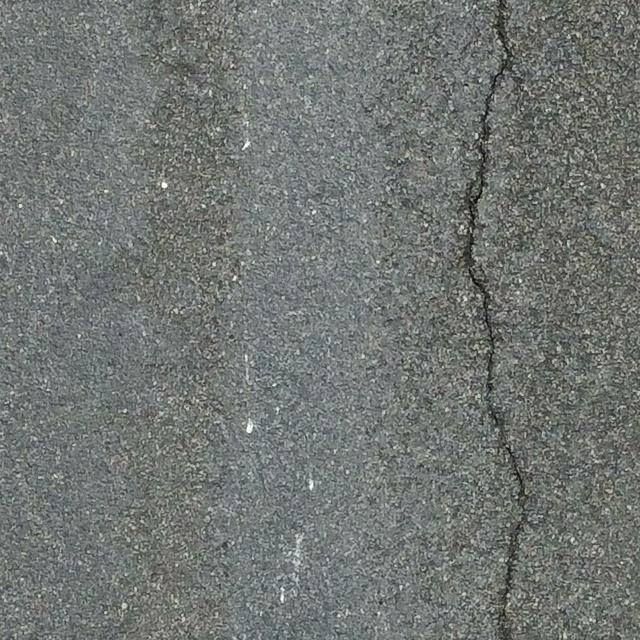LongitudinalCrack: (458, 1, 531, 621)
